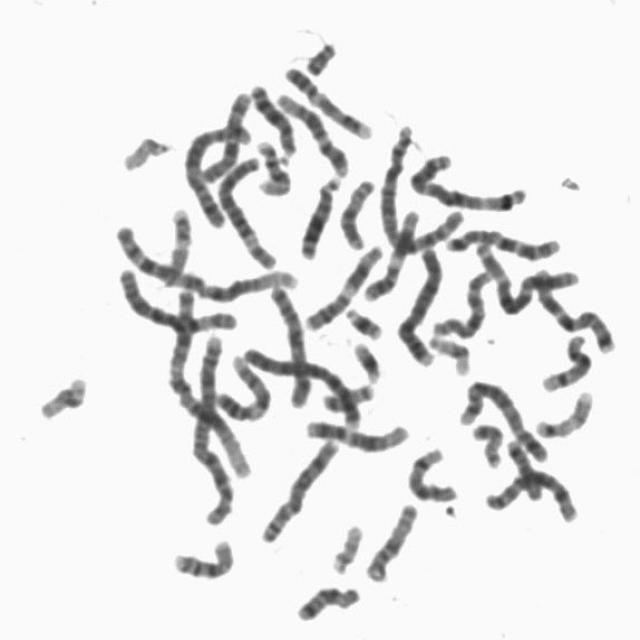A1: (158, 277, 255, 482), (110, 218, 300, 302)
A2: (371, 118, 466, 256), (184, 326, 237, 528)
A3: (468, 232, 579, 317), (402, 146, 530, 213)
B4: (234, 340, 365, 429), (389, 238, 446, 366)
B5: (178, 108, 255, 228), (452, 372, 550, 465)
C10: (194, 84, 255, 185), (426, 262, 496, 341)
C11: (298, 238, 386, 333), (357, 202, 422, 302)
C12: (270, 84, 352, 178), (298, 411, 410, 454)
C6: (112, 261, 240, 334), (210, 148, 278, 271)
C7: (527, 262, 619, 354), (438, 220, 562, 261)
C8: (253, 432, 342, 544), (478, 463, 582, 524)
C9: (276, 58, 374, 140), (210, 345, 273, 423)
D13: (292, 167, 345, 261), (243, 75, 299, 161)
D14: (535, 326, 594, 394), (402, 440, 459, 504)
D15: (358, 495, 420, 584), (332, 170, 377, 251)
E16: (165, 530, 236, 582), (250, 134, 293, 196)
E17: (530, 384, 596, 441), (155, 201, 194, 289)
E18: (289, 577, 362, 623), (501, 432, 544, 501)
F19: (30, 368, 90, 422), (421, 328, 474, 378)
F20: (314, 376, 378, 412), (465, 416, 507, 470)
G21: (338, 299, 385, 342), (346, 334, 384, 383)
G22: (115, 126, 174, 172), (324, 517, 366, 576)
X: (262, 277, 313, 409)
Y: (299, 34, 339, 76)
